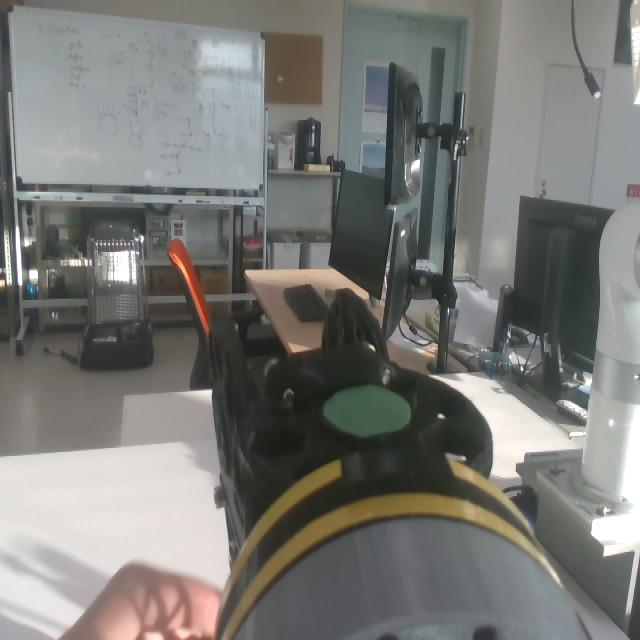body_connector: (235, 516, 594, 640)
connection: (213, 452, 589, 640)
leg: (207, 289, 561, 640)
leg_connector: (221, 446, 556, 636)
marker: (324, 389, 410, 437)
